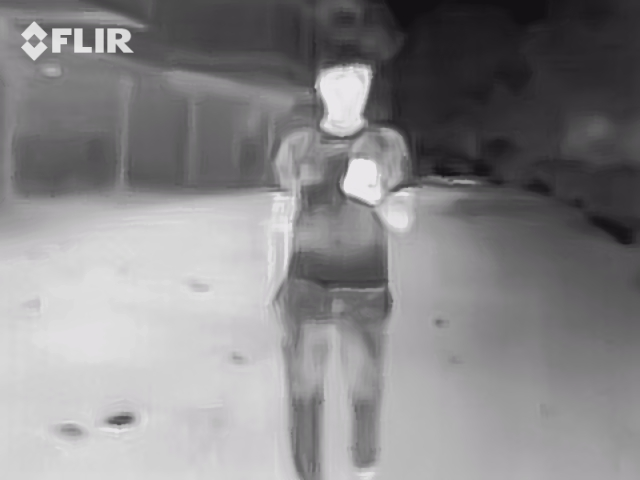head: (313, 57, 374, 118)
